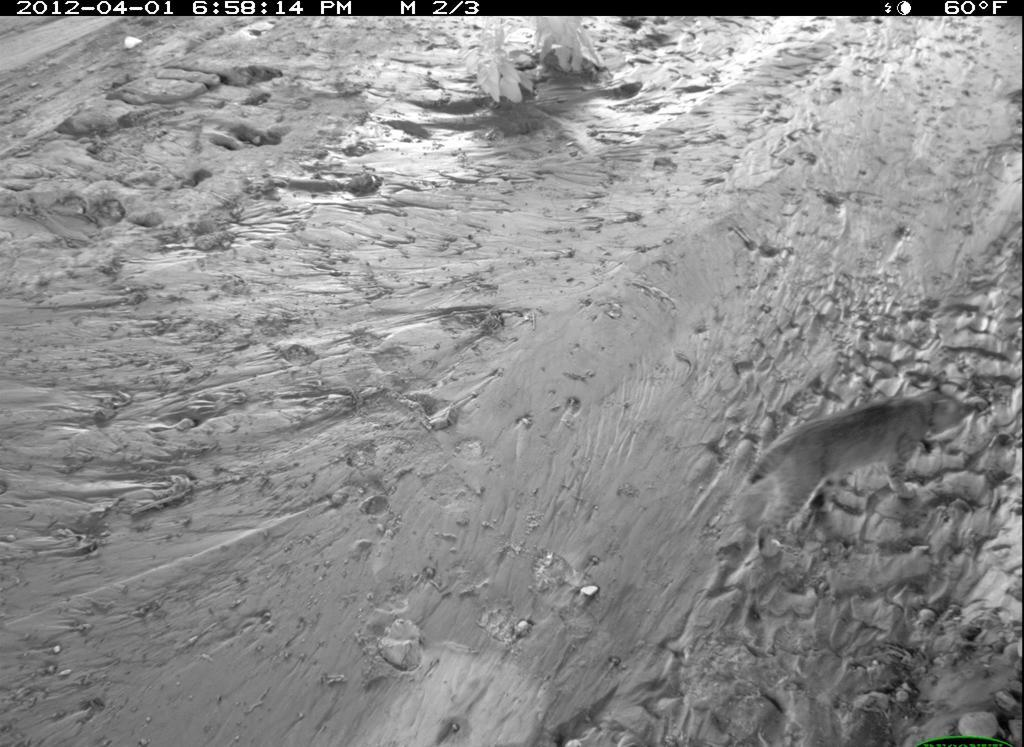bobcat: (744, 382, 973, 553)
